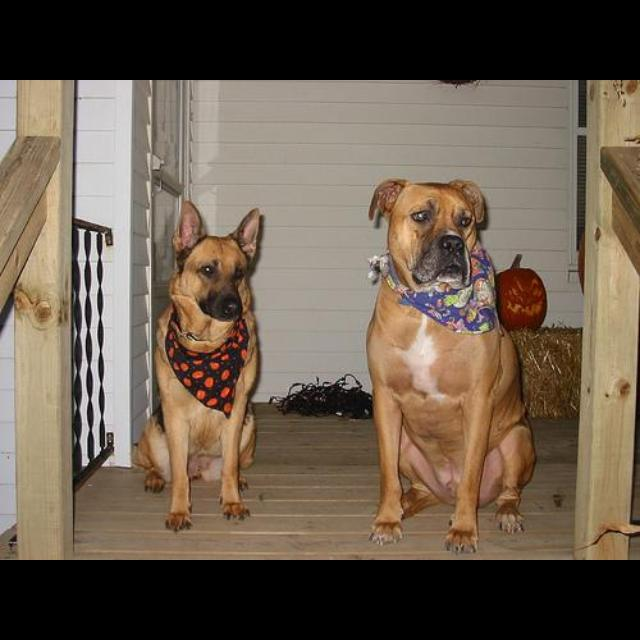bullmastiff: (365, 178, 537, 555)
other_dog_breed: (134, 200, 265, 532)
